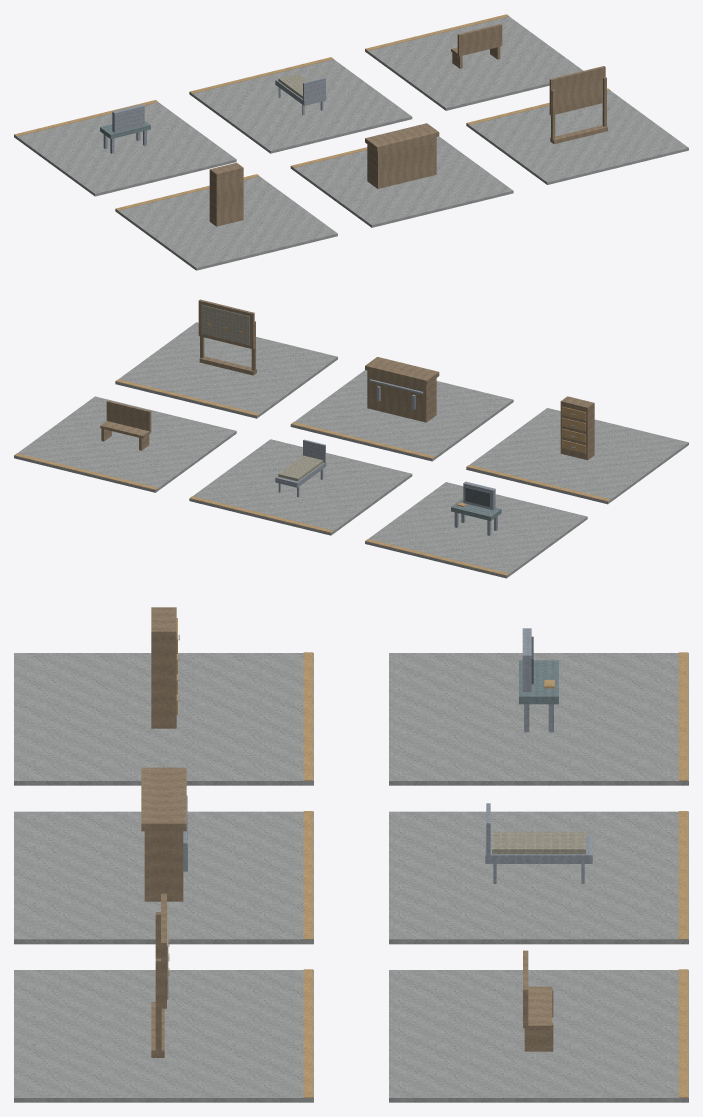
Rendered from level_blockout_kit_castle_p01.glb.
The picture shows the model from 3 angles, top to bottom: view 1: azimuth 30°, elevation 25°; view 2: azimuth 150°, elevation 25°; view 3: azimuth 270°, elevation 25°; orthographic projection. The views are drawn at different scales.
Visible parts, largest first — view 1: level_blockout_kit_castle_p01; view 2: level_blockout_kit_castle_p01; view 3: level_blockout_kit_castle_p01.
Part boxes in pixels (x1,y1,x2,y2): level_blockout_kit_castle_p01: [14, 14, 688, 270]; level_blockout_kit_castle_p01: [14, 299, 688, 578]; level_blockout_kit_castle_p01: [14, 607, 688, 1102].
Size of the model in its own units: 19.65 by 2.48 by 12.6.
7 materials, 7 textured.
